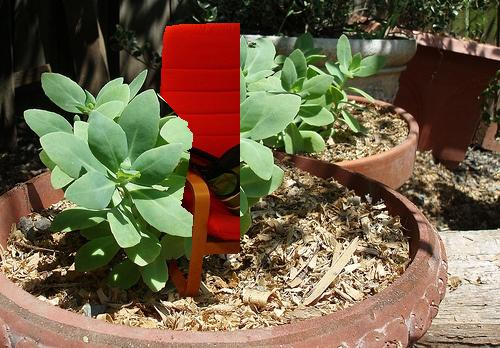tampered: (161, 24, 240, 297)
